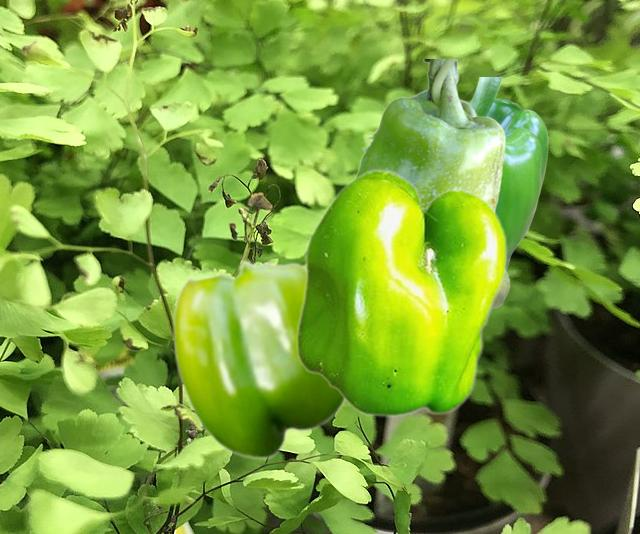bell_pepper: (295, 168, 506, 416), (355, 59, 509, 307), (172, 259, 346, 459), (461, 77, 547, 269)
